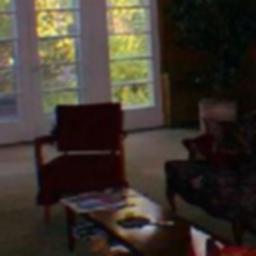Matera: (181, 0, 256, 109)
Puerta: (98, 0, 162, 124), (31, 0, 101, 96), (0, 0, 31, 140)
